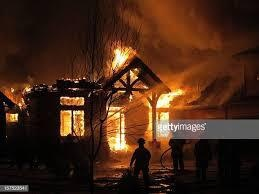fire: (151, 87, 182, 112)
